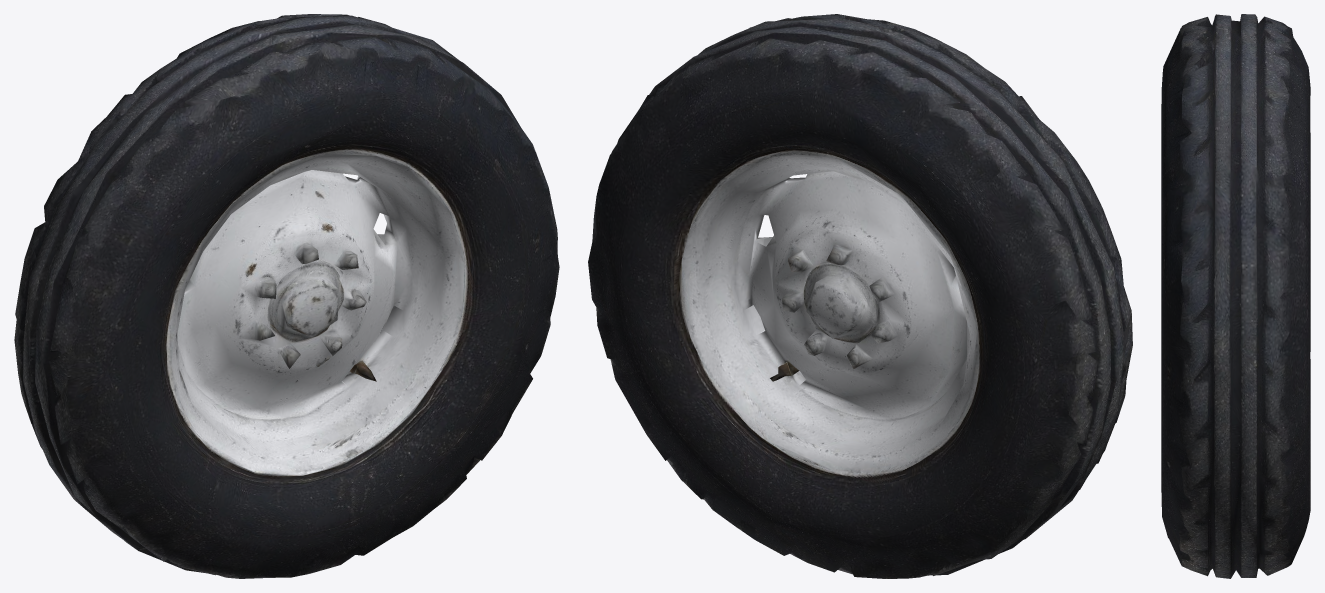
File: traktor_teker_on.glb
3 renders of one model, left to right at view 1: azimuth 30°, elevation 25°; view 2: azimuth 150°, elevation 25°; view 3: azimuth 270°, elevation 25°, orthographic. The views are drawn at different scales.
Parts seen in each view (by area): view 1: tripo_node_effce796-5a9d-4d6c-a385-8cbccddd1424; view 2: tripo_node_effce796-5a9d-4d6c-a385-8cbccddd1424; view 3: tripo_node_effce796-5a9d-4d6c-a385-8cbccddd1424.
Part boxes in pixels (x1,y1,x2,y2): tripo_node_effce796-5a9d-4d6c-a385-8cbccddd1424: (14,14,559,578); tripo_node_effce796-5a9d-4d6c-a385-8cbccddd1424: (588,14,1132,578); tripo_node_effce796-5a9d-4d6c-a385-8cbccddd1424: (1161,14,1310,578).
Size of the model in its own units: 0.9799 by 0.9796 by 0.2592.
Materials: 1 (1 with a texture image).
